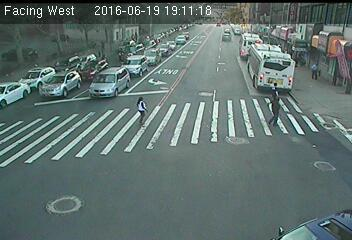neg: (208, 29, 227, 55), (78, 39, 96, 63), (127, 41, 144, 64), (176, 35, 187, 50)
pos: (259, 82, 293, 127), (129, 93, 154, 126), (308, 60, 325, 83)
